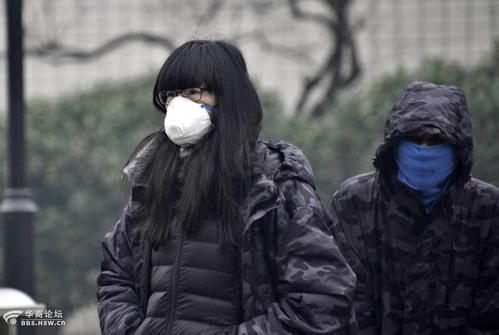mask: (385, 108, 469, 200), (161, 69, 229, 150)
